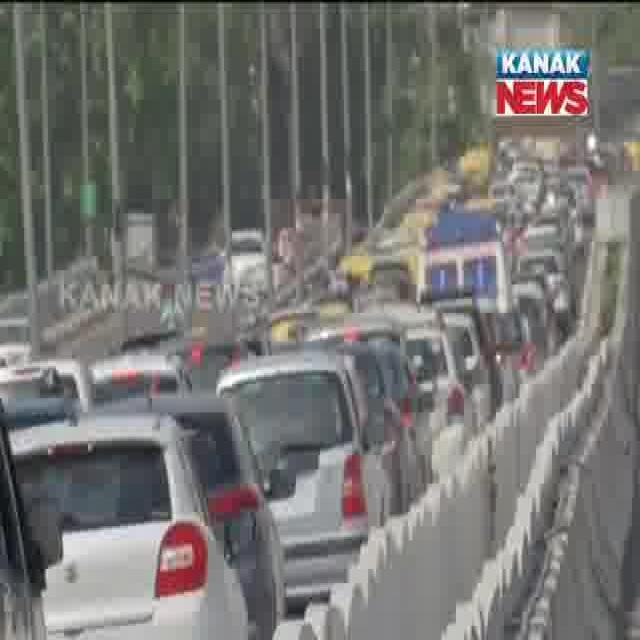ambulance: (418, 204, 504, 288)
